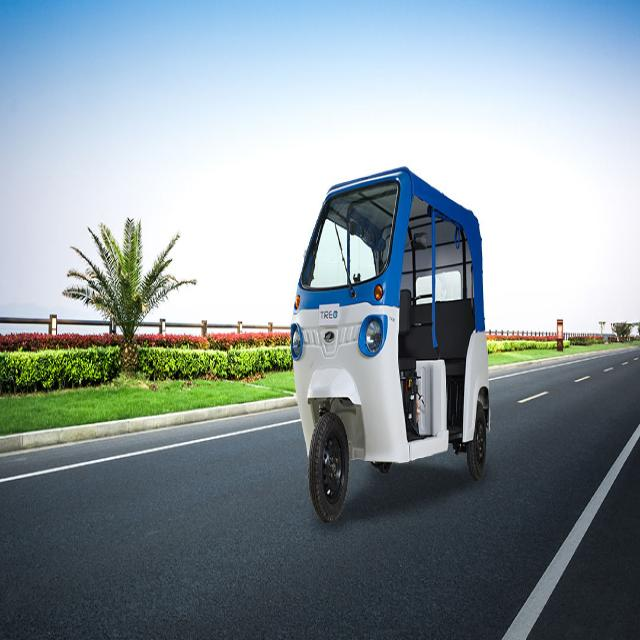autorickshaw: (289, 167, 491, 526)
